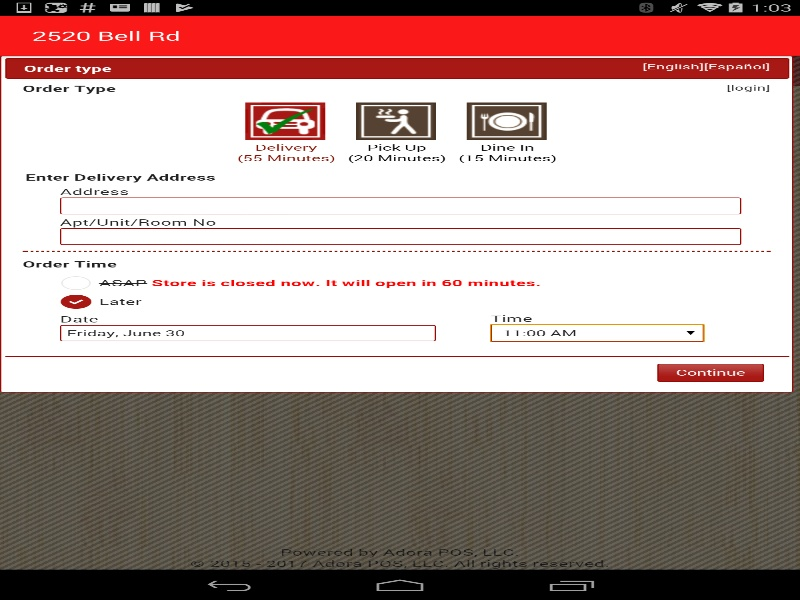Button: (210, 86, 590, 111), (210, 113, 590, 138), (210, 140, 590, 165), (210, 167, 590, 192), (210, 194, 590, 219), (210, 221, 590, 246), (210, 248, 590, 273), (346, 101, 448, 165), (236, 101, 337, 165), (457, 101, 558, 165), (490, 324, 705, 342), (661, 61, 794, 80), (657, 363, 765, 382), (12, 61, 98, 80)
Input: (60, 197, 742, 215), (60, 228, 742, 245), (60, 325, 437, 341)
